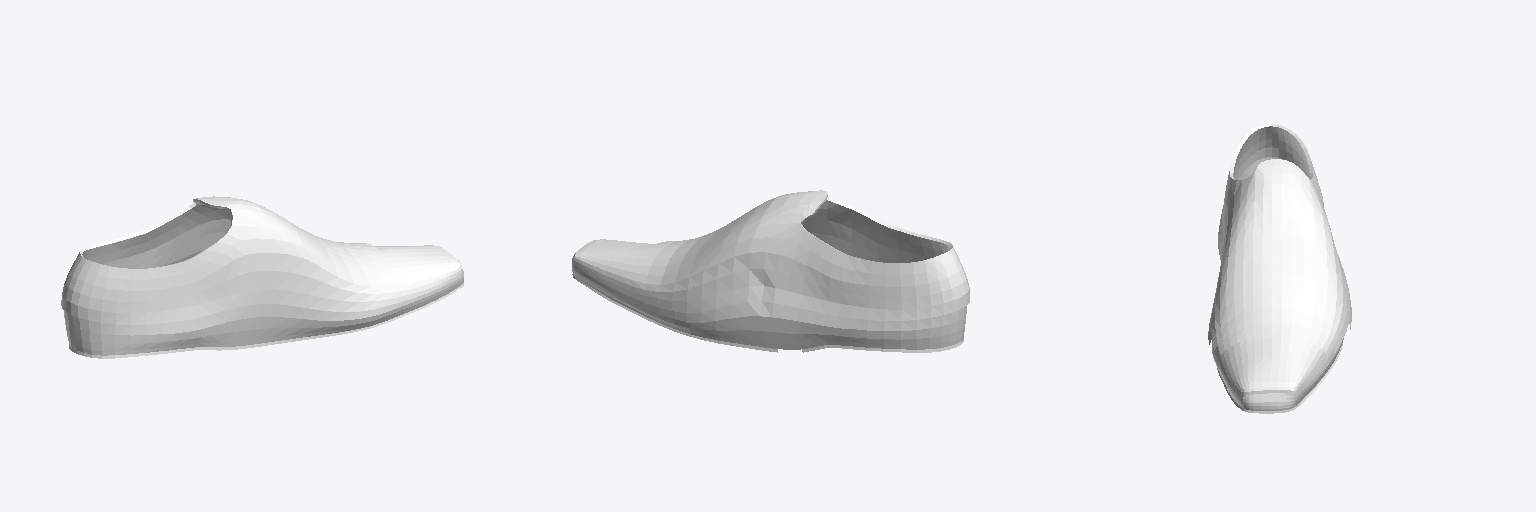
Rendered from 08_white.obj.
The picture shows the model from 3 angles: view 1: azimuth 30°, elevation 25°; view 2: azimuth 150°, elevation 25°; view 3: azimuth 270°, elevation 25°; orthographic projection.
Parts seen in each view (by area): view 1: whithe_part; view 2: whithe_part; view 3: whithe_part.
Boxes of the visible parts, box(x1,y1,x2,y2) form: whithe_part: box(61, 196, 463, 358); whithe_part: box(572, 190, 969, 352); whithe_part: box(1208, 124, 1351, 413).
Bounding box in the file's own units: 205 × 70.43 × 65.65.